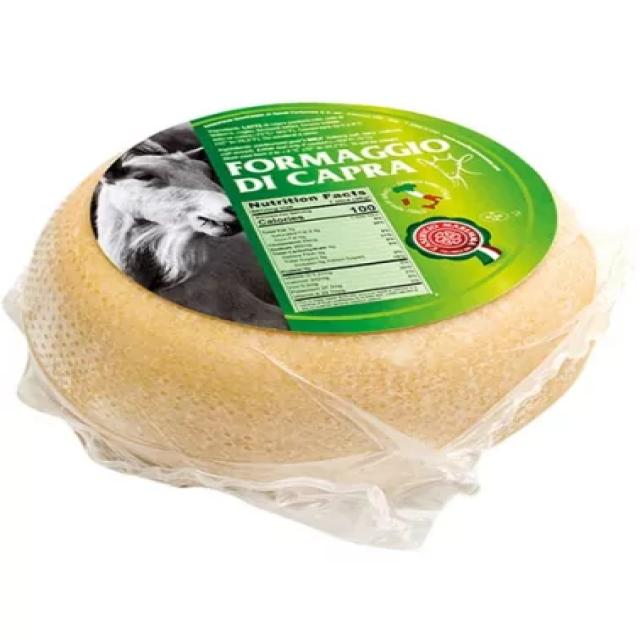Cheese: (20, 102, 595, 527)
